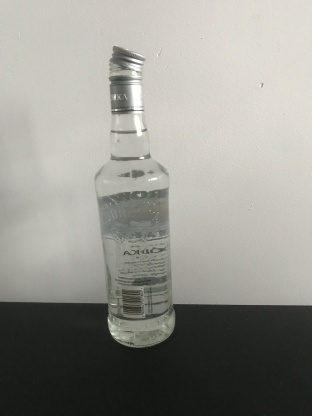nakretka: (107, 43, 146, 114)
